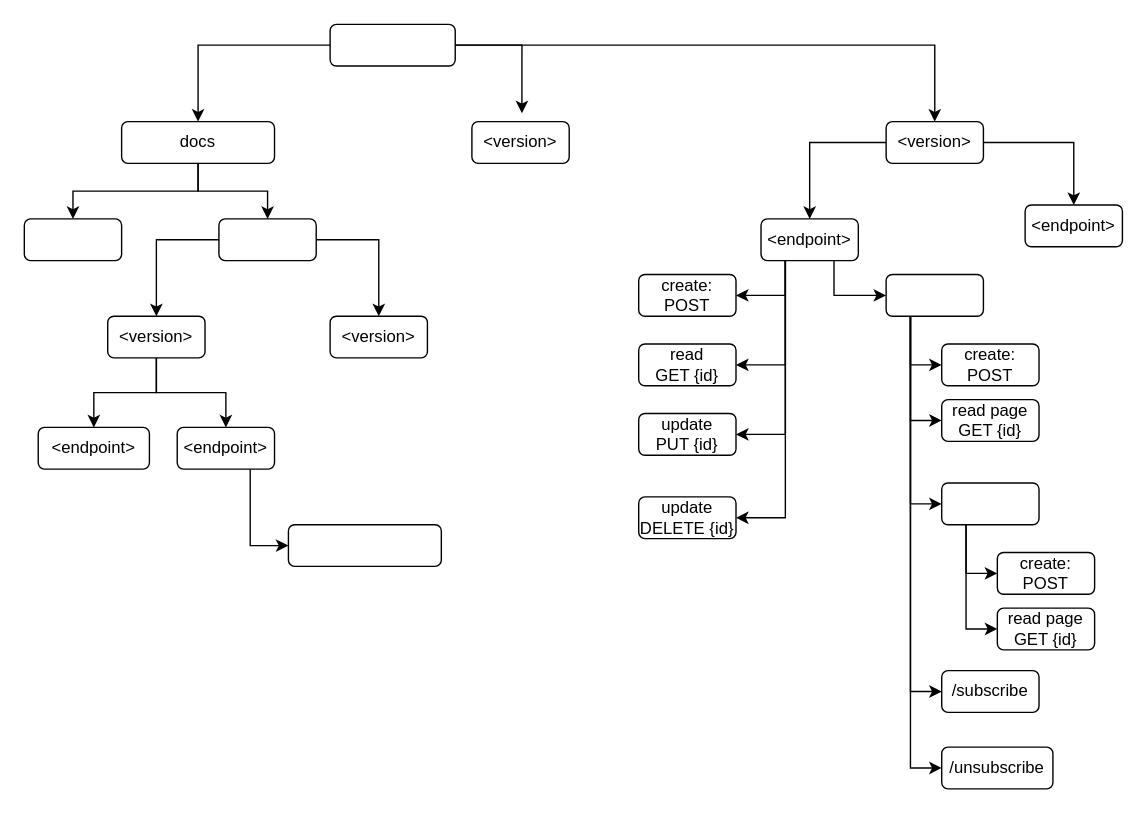
Some shapes in this 1147 by 813 pixel diagram are drawn without their labels. The shapes that lost their labels are listed below. From the top down, each one's centre as x and y in pixels, then its label:
At [392,44]: "Root".
At [72,239]: "<other>".
At [267,239]: "openapi".
At [934,294]: "/query".
At [989,503]: "/summary".
At [364,544]: "/<endpoint> .json".
